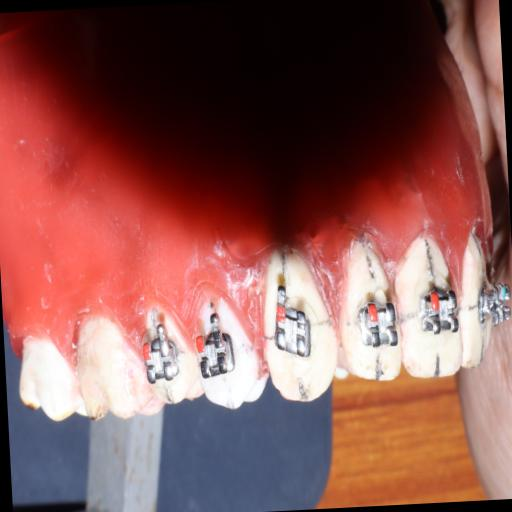incorrect_brace: (270, 292, 316, 362)
